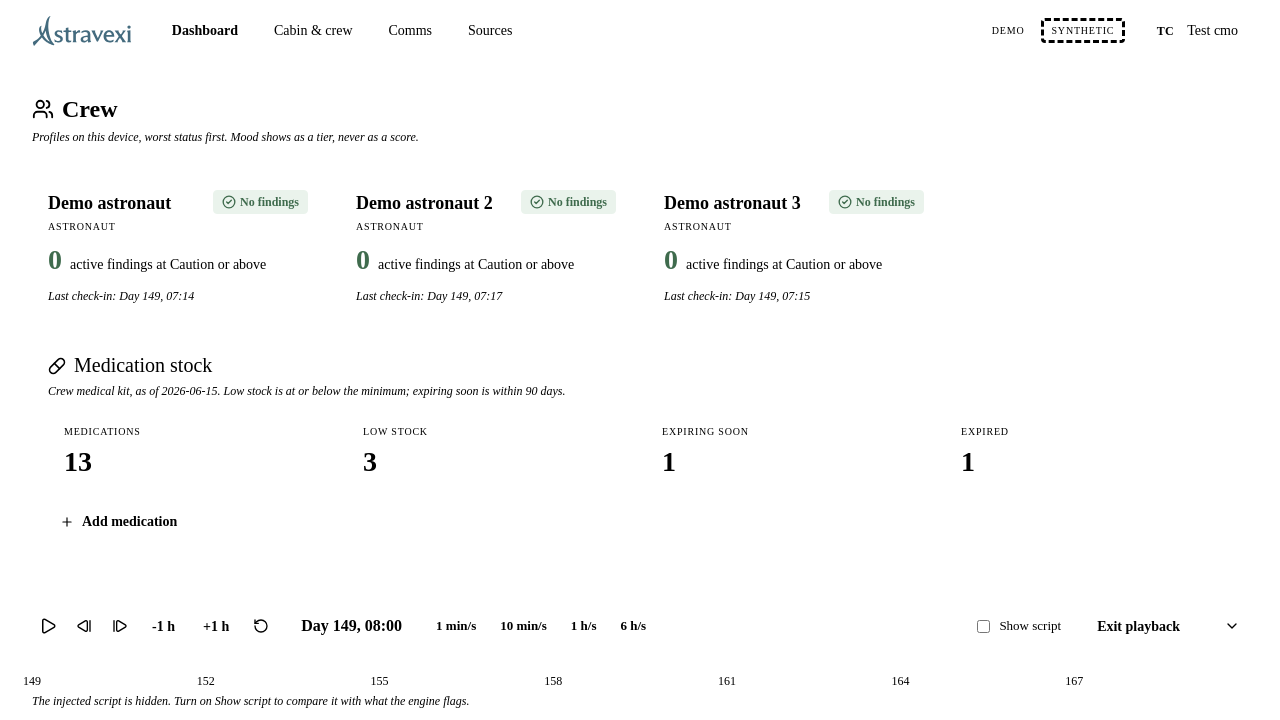
the app follows the playback › keeps the previous view on screen while the next one is computed
The width and height of the screenshot is (1280, 720).
Click the button "Cabin & crew" at (313, 30), box [258,12,368,49]
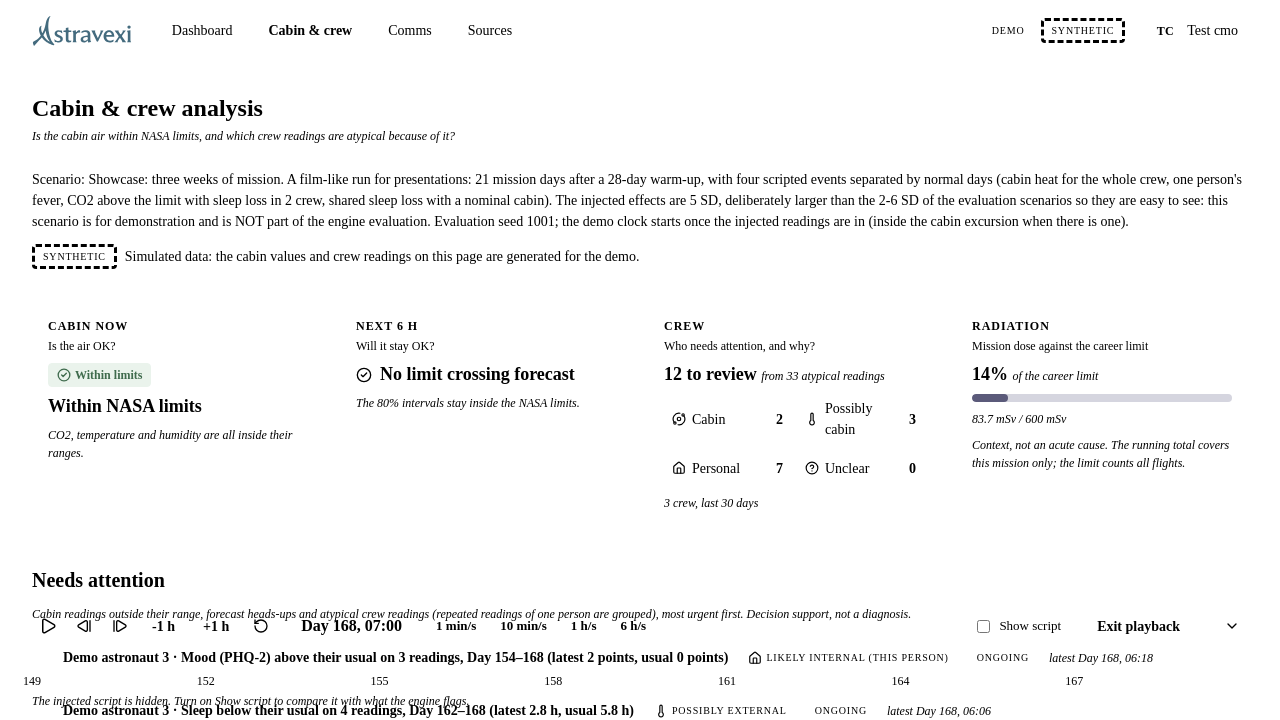
Result: the element named "key indicators" is shown at [32,301,1248,528]
